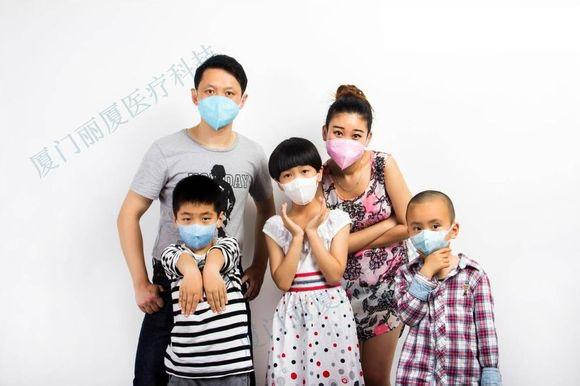OK: (199, 78, 246, 125), (329, 123, 368, 169), (411, 214, 451, 258), (281, 162, 319, 206), (178, 208, 218, 246)
